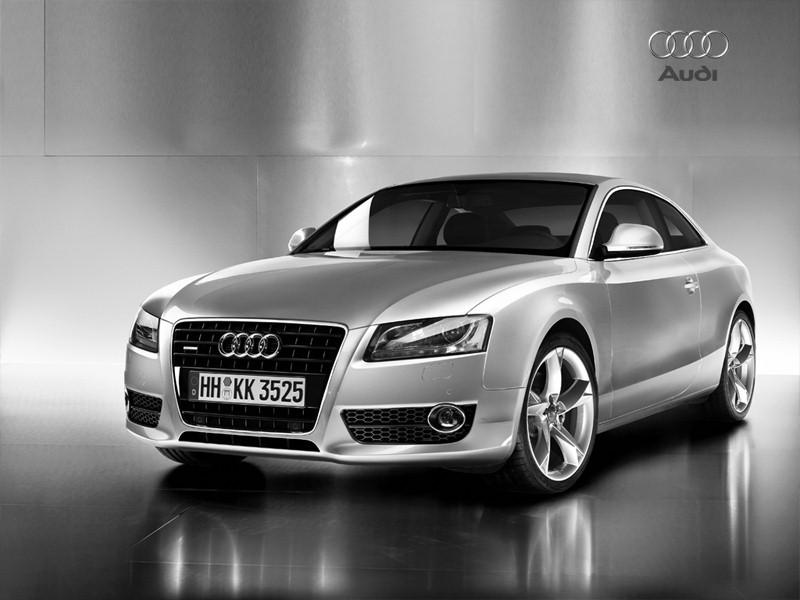car: (126, 172, 759, 499)
